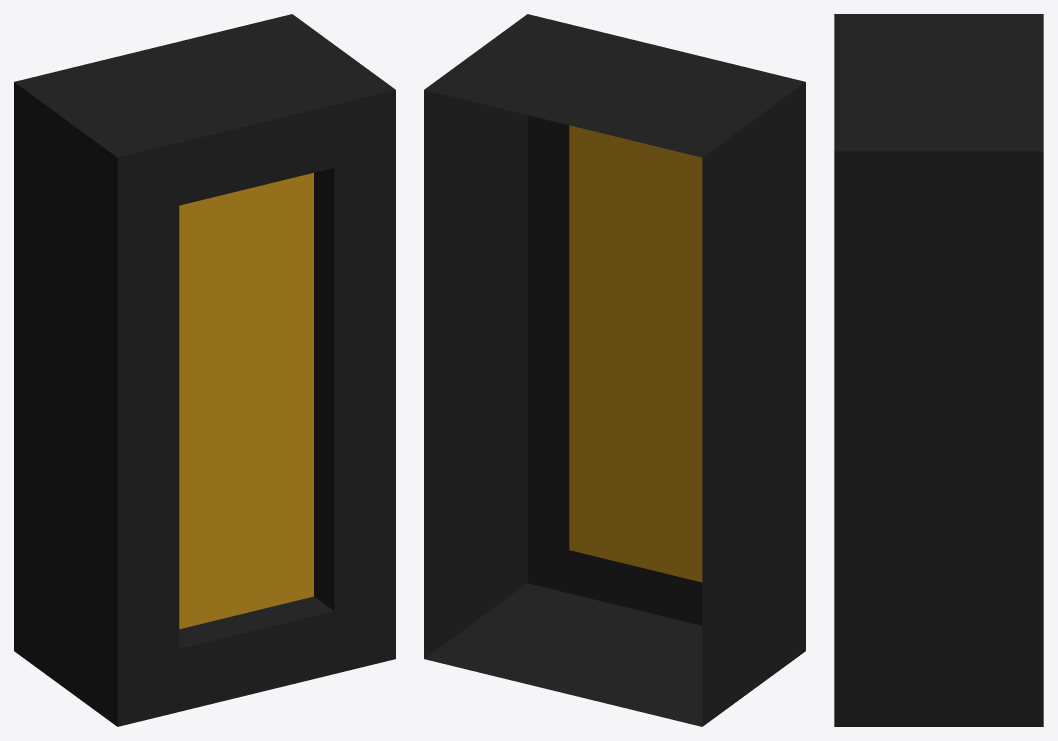
File: Wall_Light_2.obj
3 renders of one model, left to right at view 1: azimuth 30°, elevation 25°; view 2: azimuth 150°, elevation 25°; view 3: azimuth 270°, elevation 25°, orthographic.
Visible parts, largest first — view 1: Wall_Light_2; view 2: Wall_Light_2; view 3: Wall_Light_2.
Boxes of the visible parts, left/top/right/bottom form: Wall_Light_2: left=14, top=14, right=395, bottom=726; Wall_Light_2: left=424, top=14, right=805, bottom=726; Wall_Light_2: left=834, top=14, right=1043, bottom=726.
Bounding box in the file's own units: 0.2713 × 0.5303 × 0.1749.
